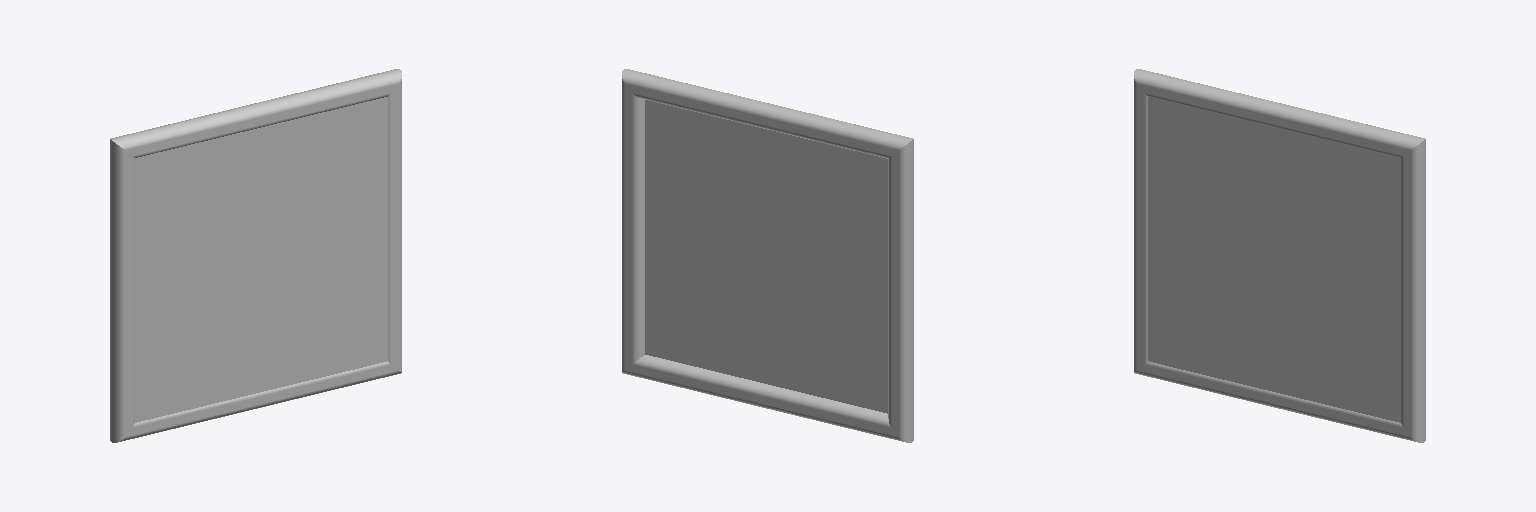
The model's file is Bild mir Rahmen.obj.
The picture shows the model from 3 angles: view 1: azimuth 30°, elevation 25°; view 2: azimuth 150°, elevation 25°; view 3: azimuth 330°, elevation 25°; orthographic projection.
Visible parts, largest first — view 1: R_ckseite, Ramen; view 2: Glas, Ramen; view 3: R_ckseite, Ramen.
Boxes of the visible parts, <box> form: R_ckseite: <box>135,97,387,422</box>; Ramen: <box>110,69,401,442</box>; Glas: <box>645,100,887,413</box>; Ramen: <box>622,69,913,442</box>; R_ckseite: <box>1148,97,1400,422</box>; Ramen: <box>1134,69,1425,442</box>.
Size of the model in its own units: 106 by 106 by 7.5.